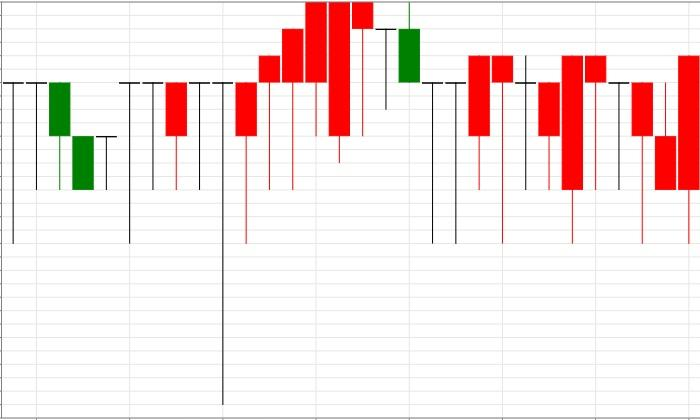hanging_man_fall: (72, 1, 374, 406)
